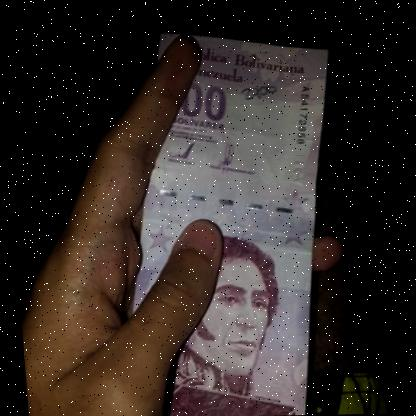one_hundred-front-vef: (107, 31, 347, 416)
